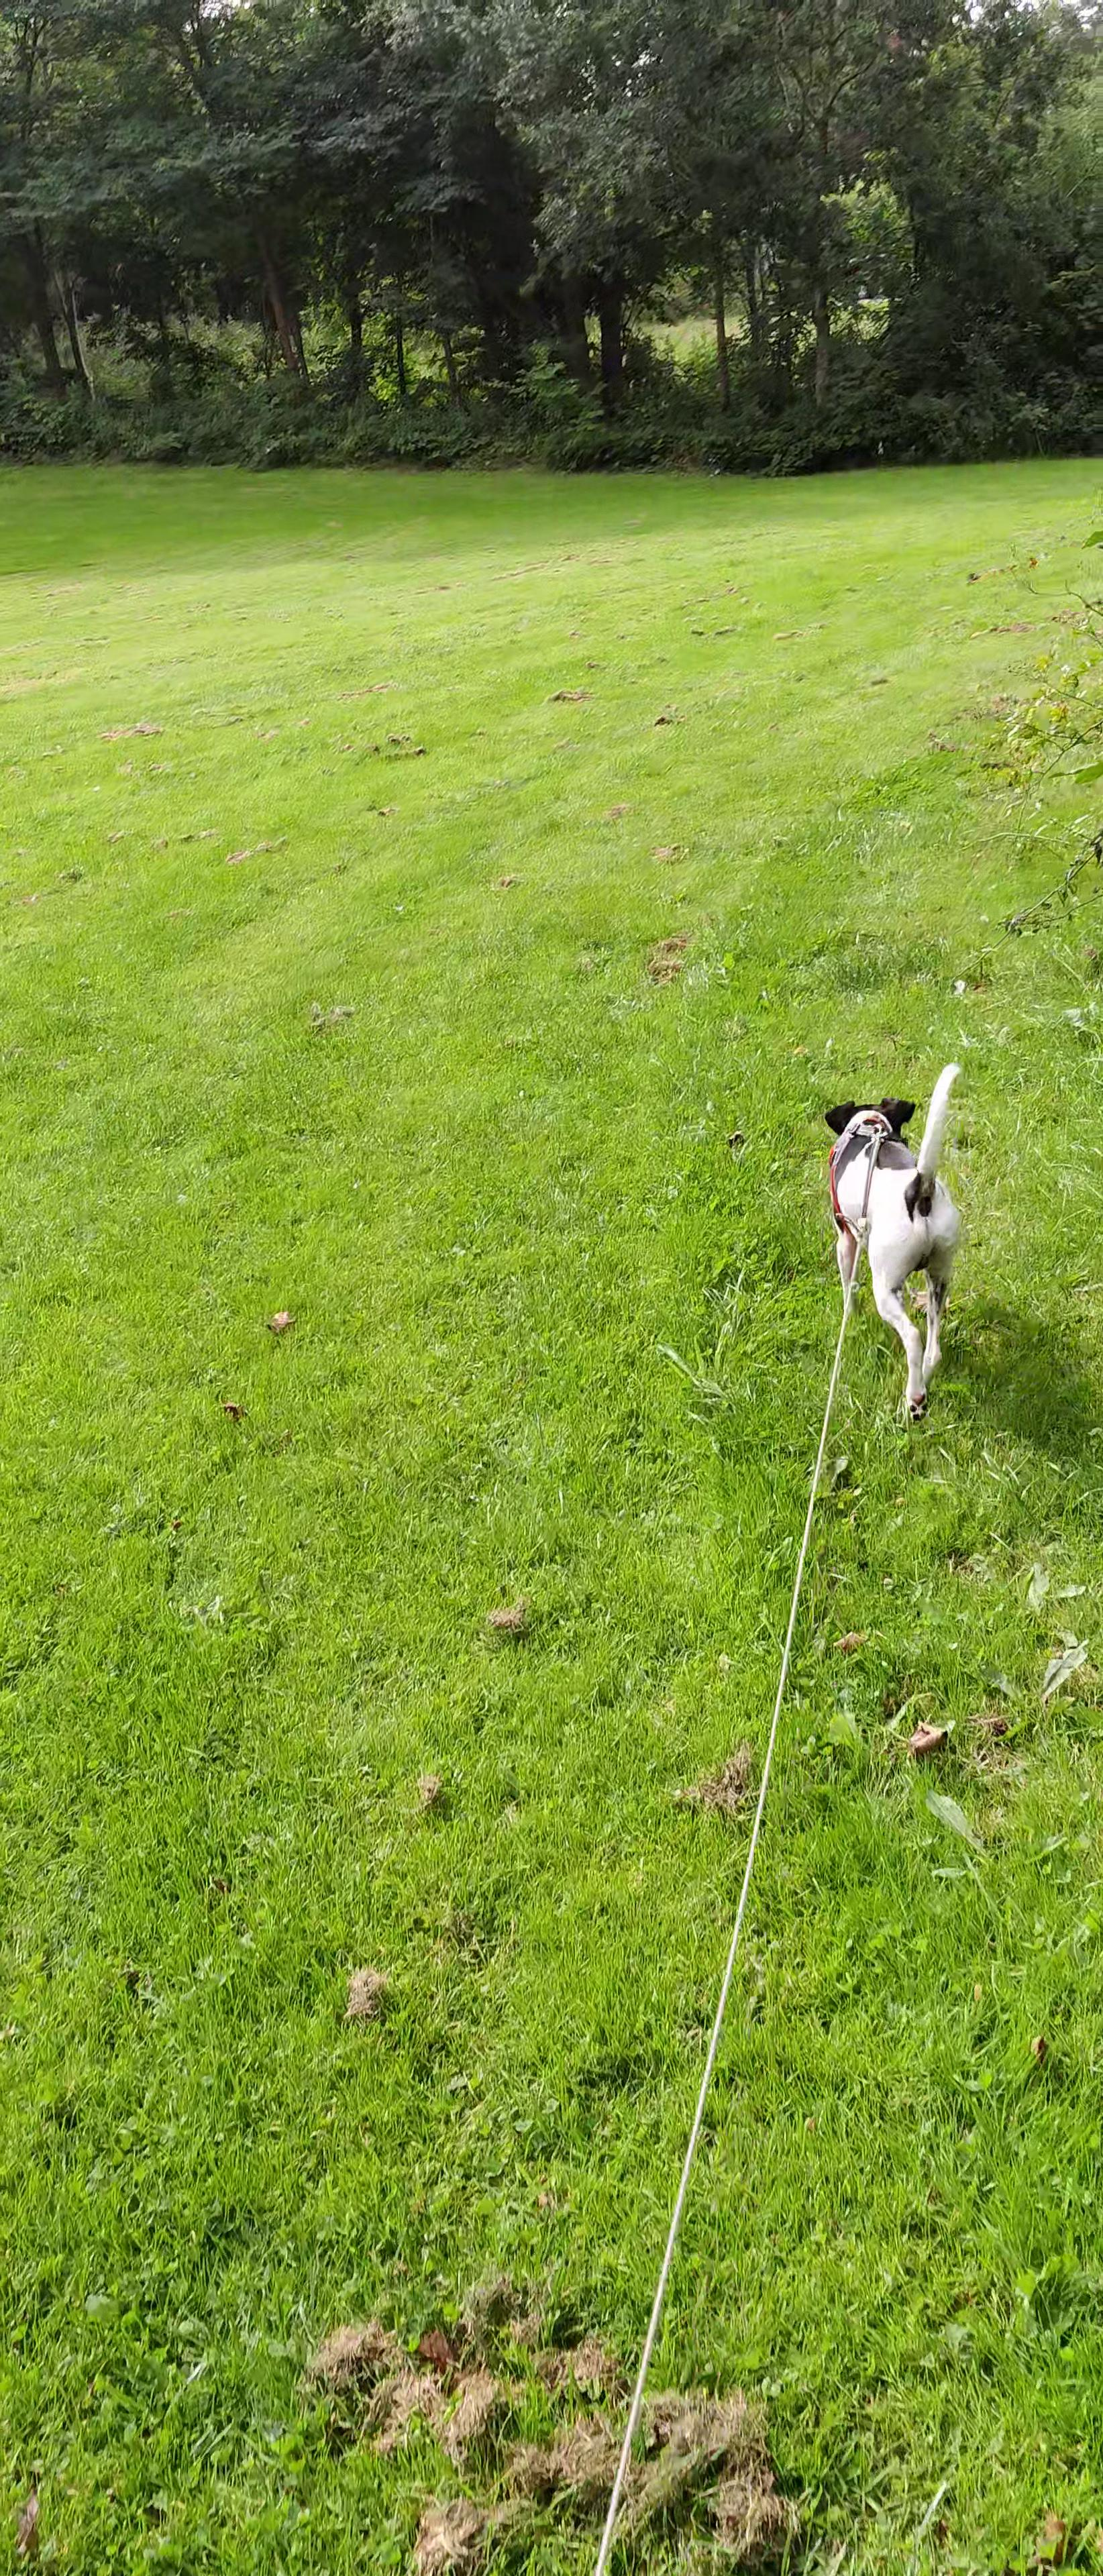Dog: (787, 1042, 1001, 1441)
